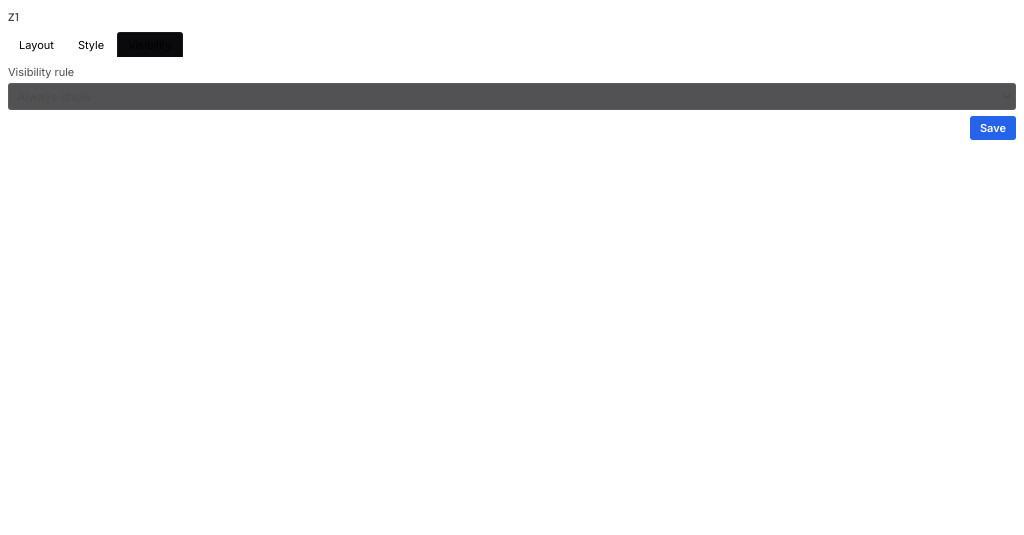
ZonePropertiesPanel › switches tabs and shows each tab body (Plan 5d T11)
What coordinates should you click on to do the following:
click the tab "Layout"
I would click on:
 (36, 44)
Its box is [8,32,65,57].
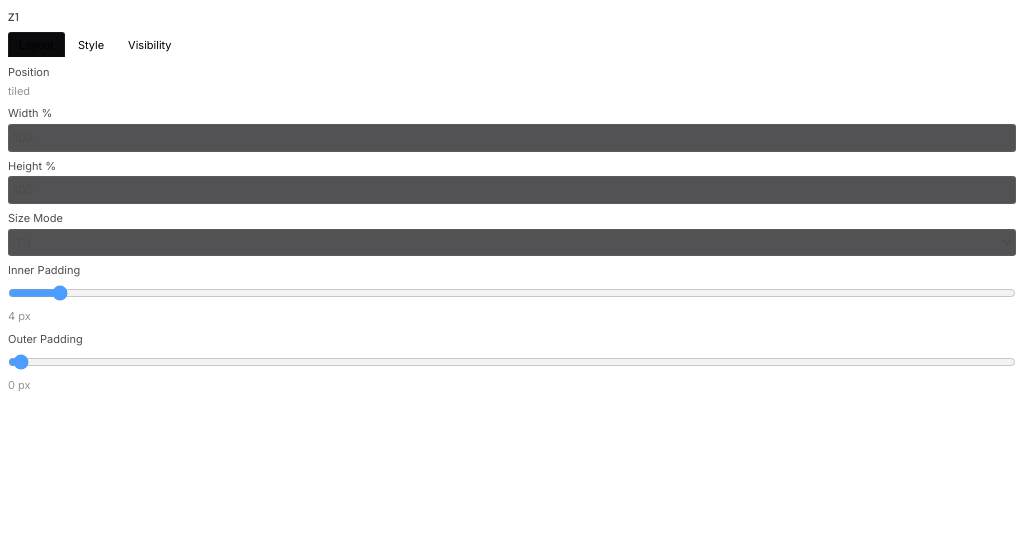
Check: the element with test id "zone-properties-layout-tab" is shown
What coordinates should you click on to do the following:
click the tab "Style"
I would click on:
 (91, 44)
Its box is [67,32,115,57].
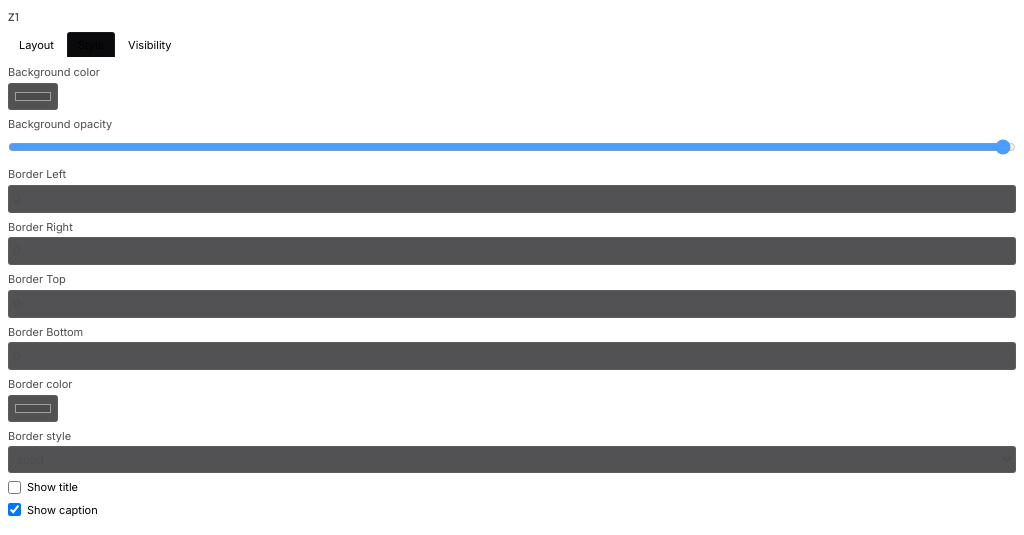
Check: the element with test id "zone-properties-style-tab" is shown
What coordinates should you click on to do the following:
click the tab "Visibility"
I would click on:
 (150, 44)
Its box is [117,32,183,57].
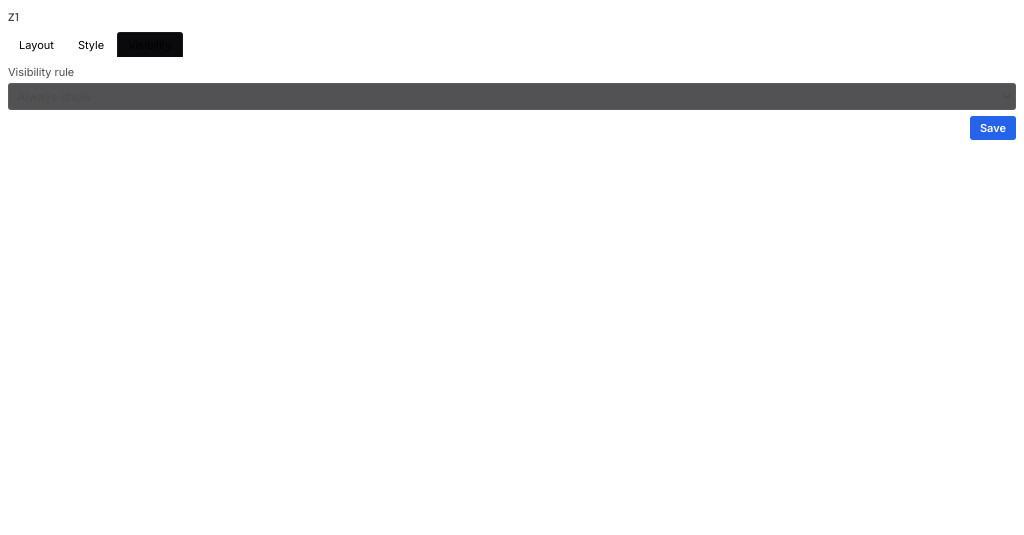
Check: the element with test id "zone-properties-visibility-tab" is shown, box [8,64,1016,140]
